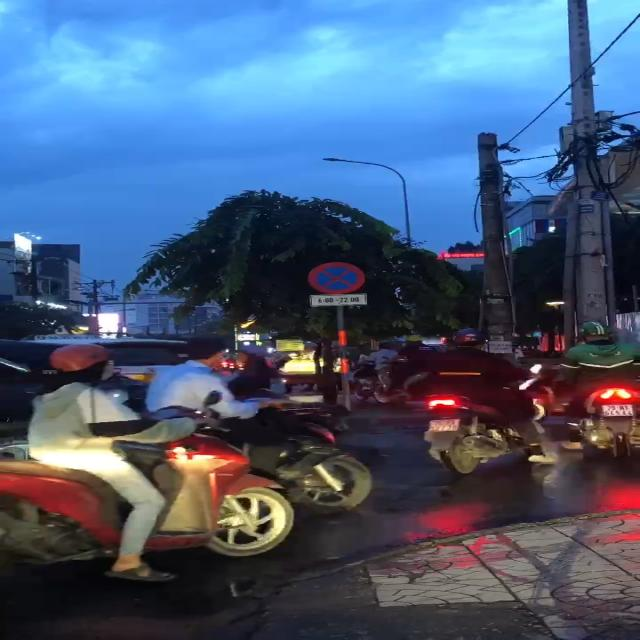Bien bao cam dung xe va do xe: (306, 260, 368, 296)
